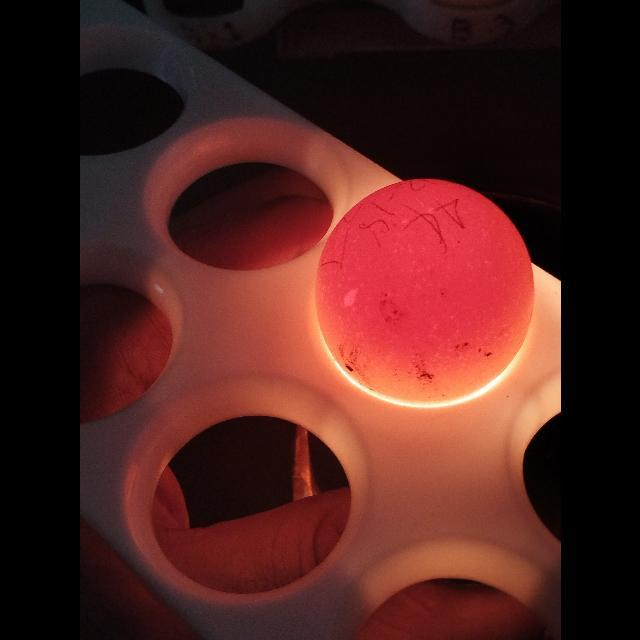Infertile: (312, 176, 536, 410)
